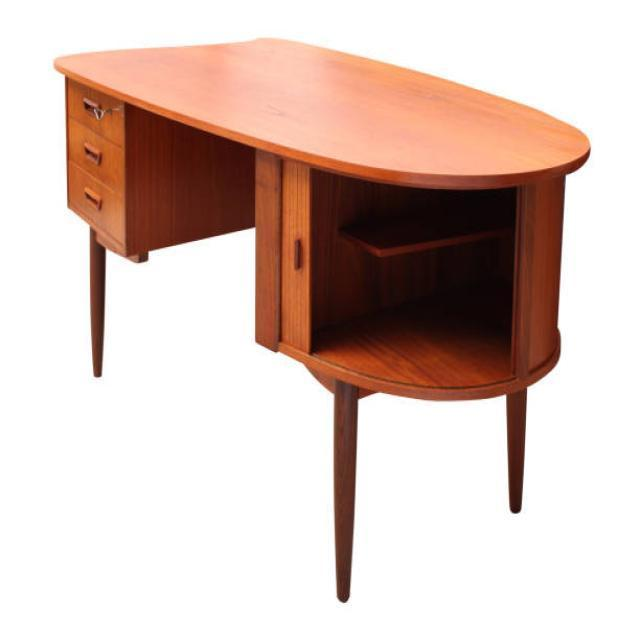table: (52, 34, 591, 602)
